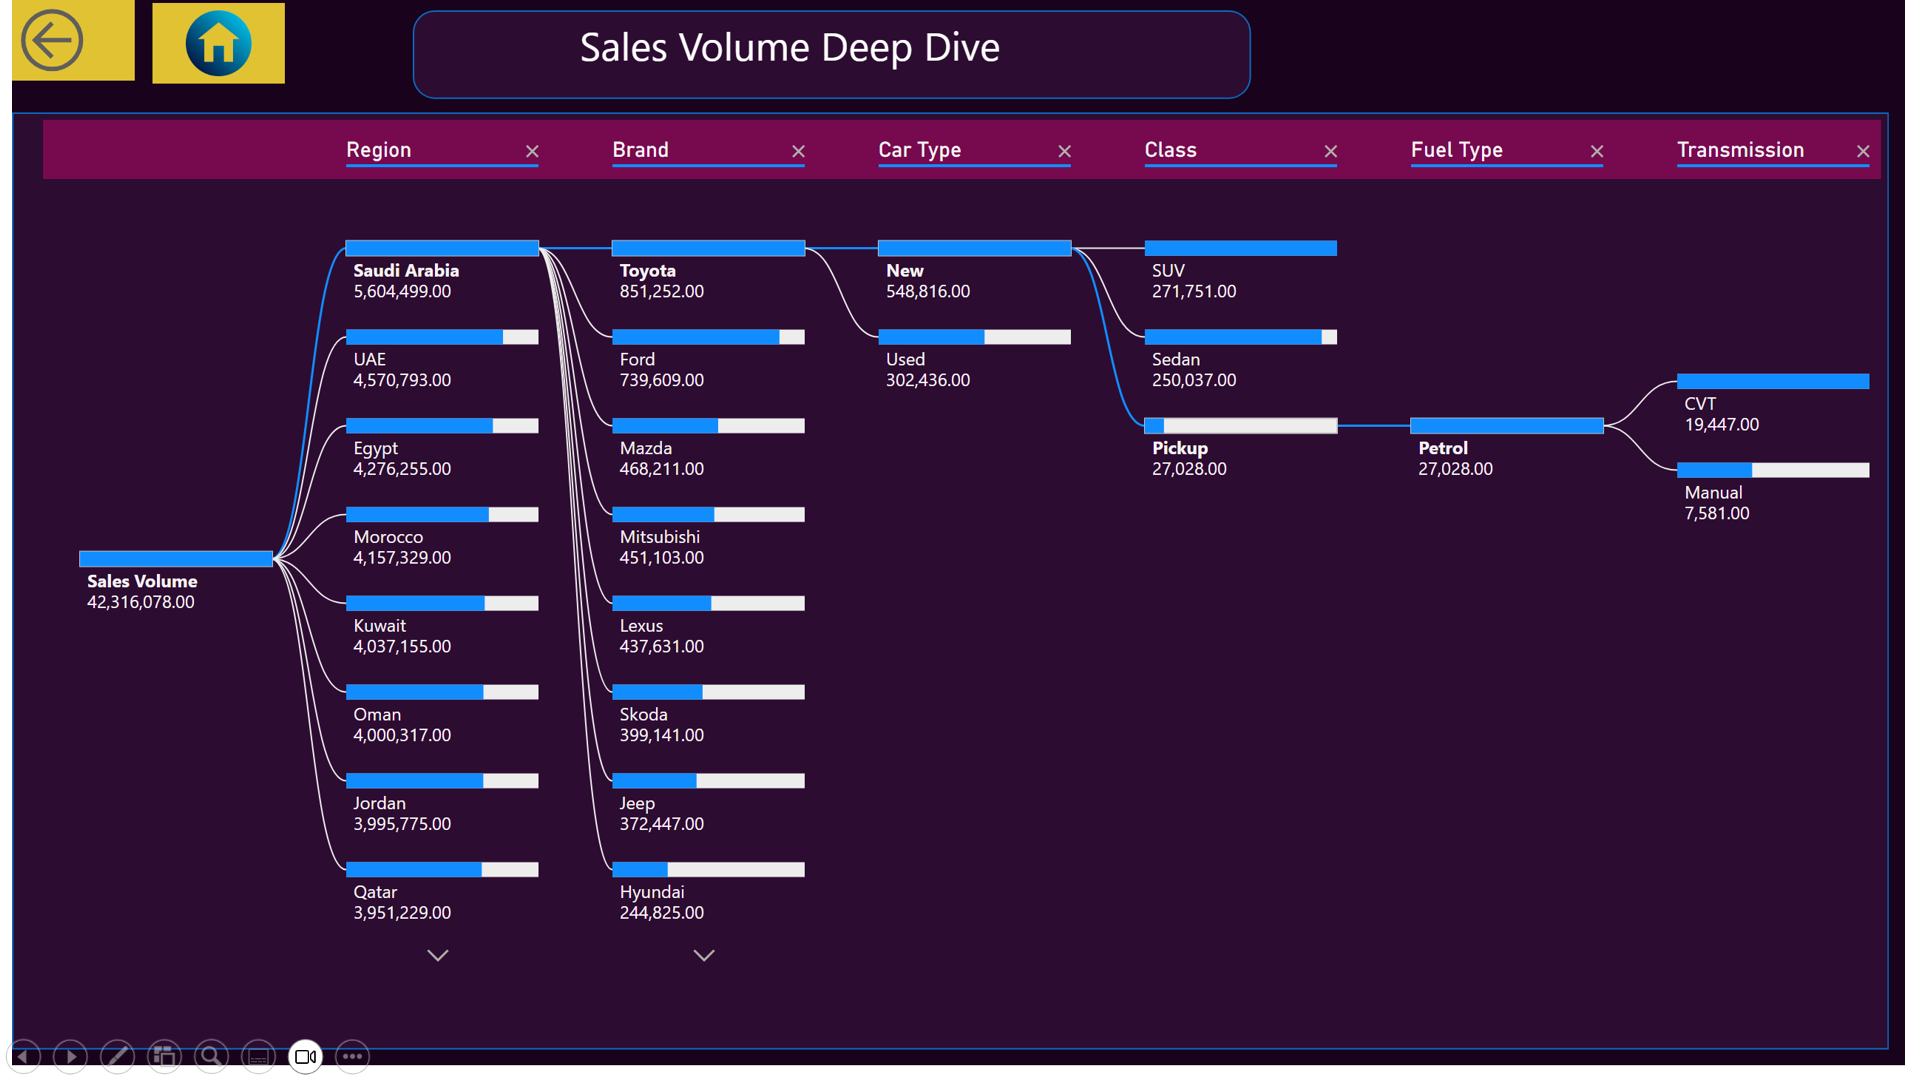

What the dashboard file says about the page in this screenshot:
{"tool":"powerbi","page":{"name":"Sales Explorer","canvas":[1280,720],"ordinal":4},"visuals":[{"type":"shape","box":[0,76,1269.2,633.4],"z":0},{"type":"decompositionTreeVisual","fields":{"Analyze":["Sum(Full Raw Data.Sales_Volume)"],"ExplainBy":["Full Raw Data.Region","Full Raw Data.Brand","Full Raw Data.Car_Type","Full Raw Data.Class","Full Raw Data.Fuel_Type","Full Raw Data.Transmission"]},"box":[15.7,75.7,1252.9,598.6],"z":1000},{"type":"shape","box":[270.6,7.1,566.8,59.8],"z":2000},{"type":"textbox","box":[338.9,7.1,444.3,51.3],"z":3000},{"type":"actionButton","box":[0,0,83.2,54.3],"z":4000},{"type":"image","box":[95.3,2.4,89.3,54.3],"z":5000}]}

Visuals, with their boxes on the page's 1280x720 design canvas (x1, y1, x2, y2). These are canvas units, not pixel positions in the 1920x1080 screenshot, which may show the page scaled, cropped or inside an application window:
shape: 0/76/1269/709
decompositionTreeVisual - Sum(Full Raw Data.Sales_Volume) x Full Raw Data.Region: 16/76/1269/674
shape: 271/7/837/67
textbox: 339/7/783/58
actionButton: 0/0/83/54
image: 95/2/185/57
